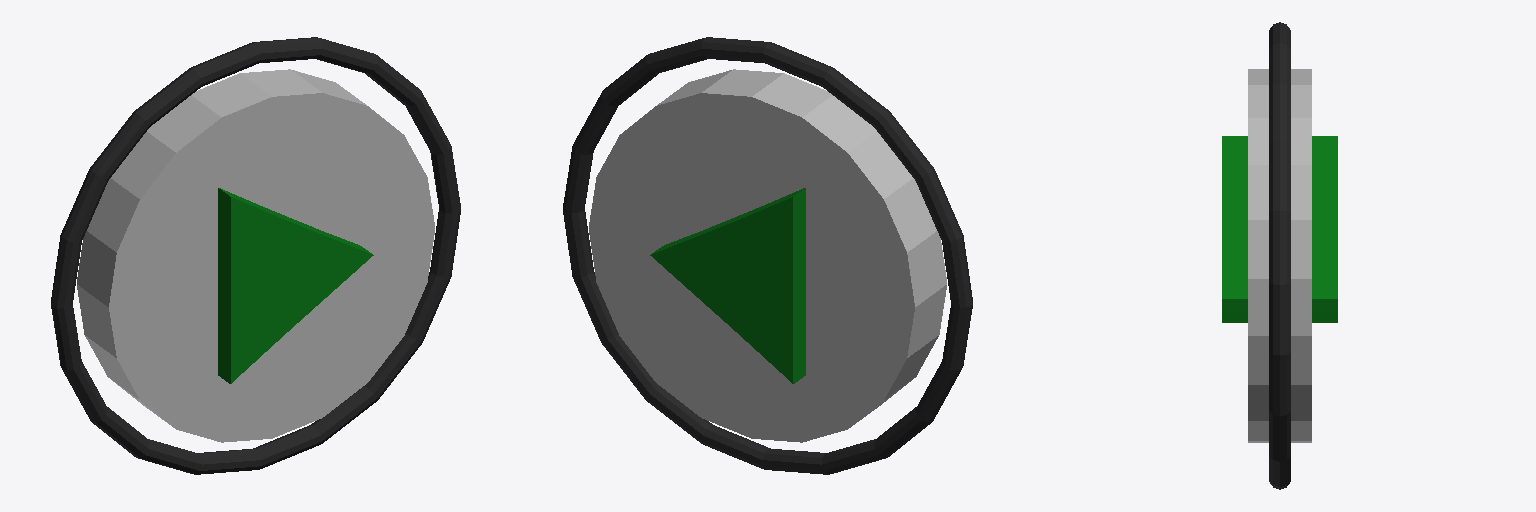
The model's file is play.obj.
3 renders of one model, left to right at view 1: azimuth 30°, elevation 25°; view 2: azimuth 150°, elevation 25°; view 3: azimuth 270°, elevation 25°, orthographic.
Parts seen in each view (by area): view 1: pCylinder1, pTorus1, pCube1; view 2: pCylinder1, pTorus1, pCube1; view 3: pCylinder1, pTorus1, pCube1.
Part boxes in pixels (left/top/right/bottom): pCylinder1: left=77, top=69, right=434, bottom=442; pTorus1: left=51, top=37, right=460, bottom=474; pCube1: left=218, top=188, right=373, bottom=383; pCylinder1: left=589, top=69, right=946, bottom=442; pTorus1: left=563, top=37, right=972, bottom=474; pCube1: left=650, top=188, right=805, bottom=383; pCylinder1: left=1248, top=69, right=1311, bottom=442; pTorus1: left=1269, top=22, right=1290, bottom=489; pCube1: left=1222, top=136, right=1337, bottom=322.
Bounding box in the file's own units: 2.27 × 2.27 × 0.5609.